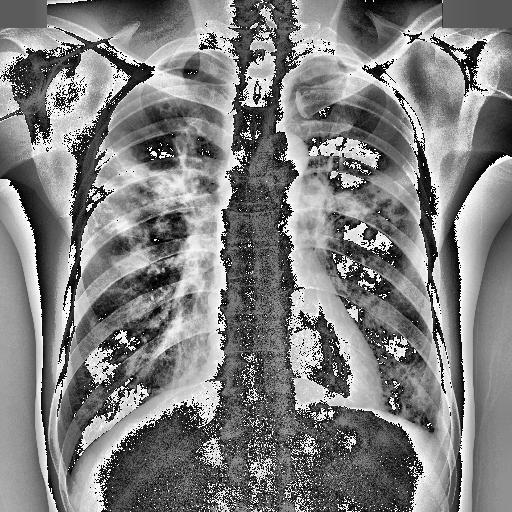0- Aortic enlargement: (256, 129, 308, 179)
10- Pleural effusion: (415, 398, 454, 464), (424, 406, 454, 459)
11- Pleural thickening: (415, 398, 454, 464), (424, 406, 454, 459)
13- Pulmonary fibrosis: (86, 93, 212, 279), (72, 130, 198, 276), (320, 154, 421, 242), (316, 158, 416, 246), (320, 70, 354, 96)
4- Consolidation: (72, 130, 198, 276)
6- Infiltration: (86, 93, 212, 279), (72, 130, 198, 276), (84, 150, 201, 270), (316, 158, 416, 246), (327, 168, 419, 239), (306, 60, 346, 100)
7- Lung Opacity: (84, 150, 201, 270), (327, 168, 419, 239), (320, 70, 354, 96)
